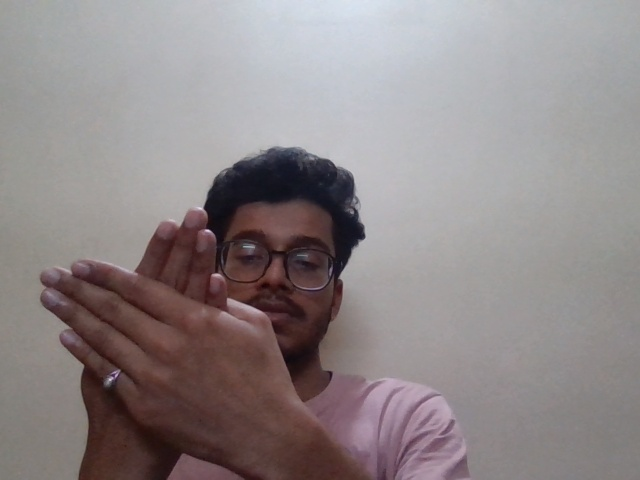what: (34, 215, 293, 399)
